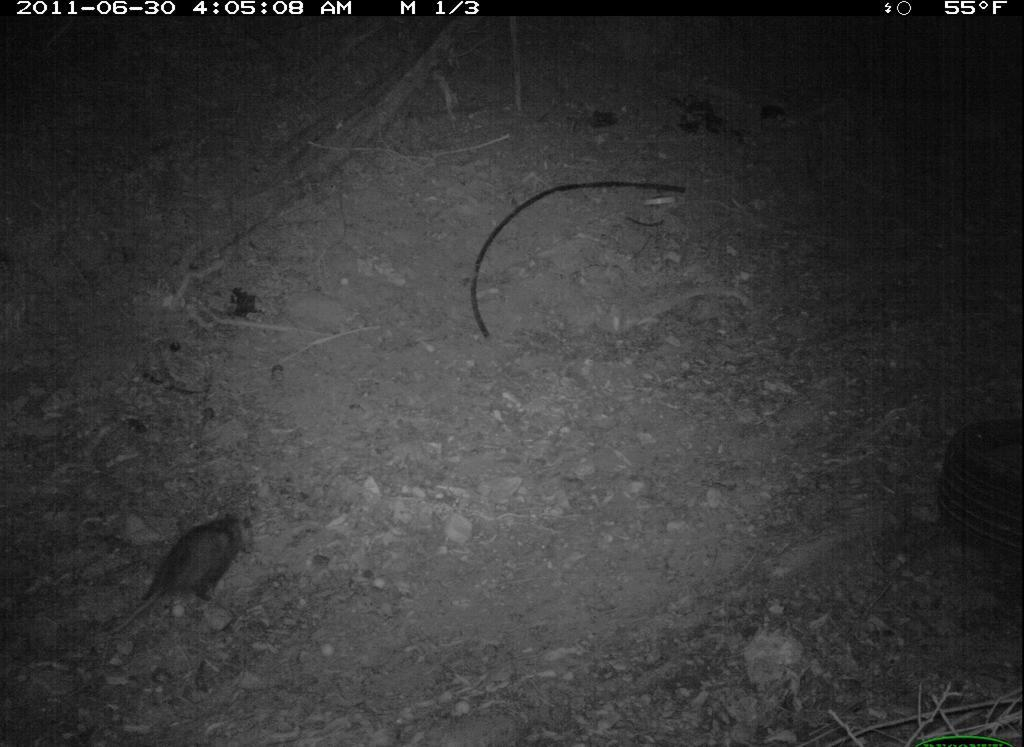opossum: (107, 509, 260, 642)
